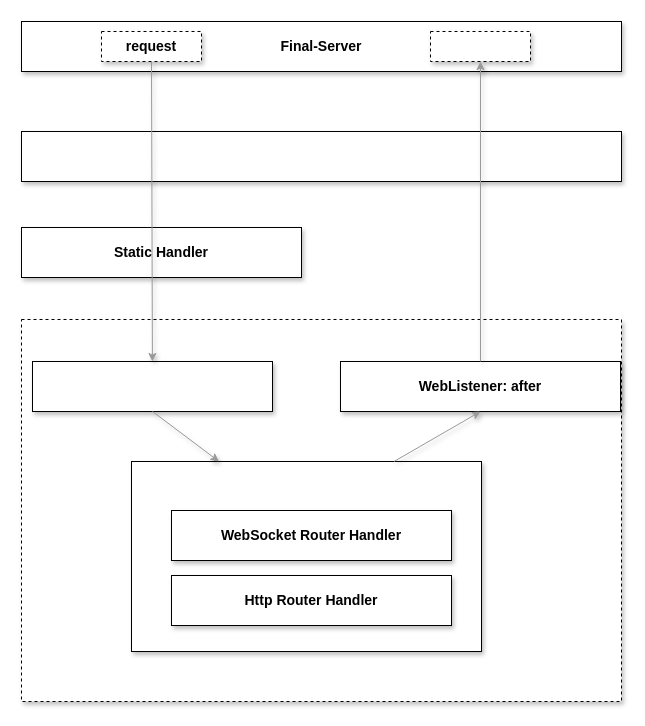
Some shapes in this 645 by 726 pixel diagram are drawn without their labels. Each missing label, with the centre of its shape:
FilterChian:Filter1,Filter2,Filter3...: [322,157]
response: [481,47]
WebListener: before: [153,387]
